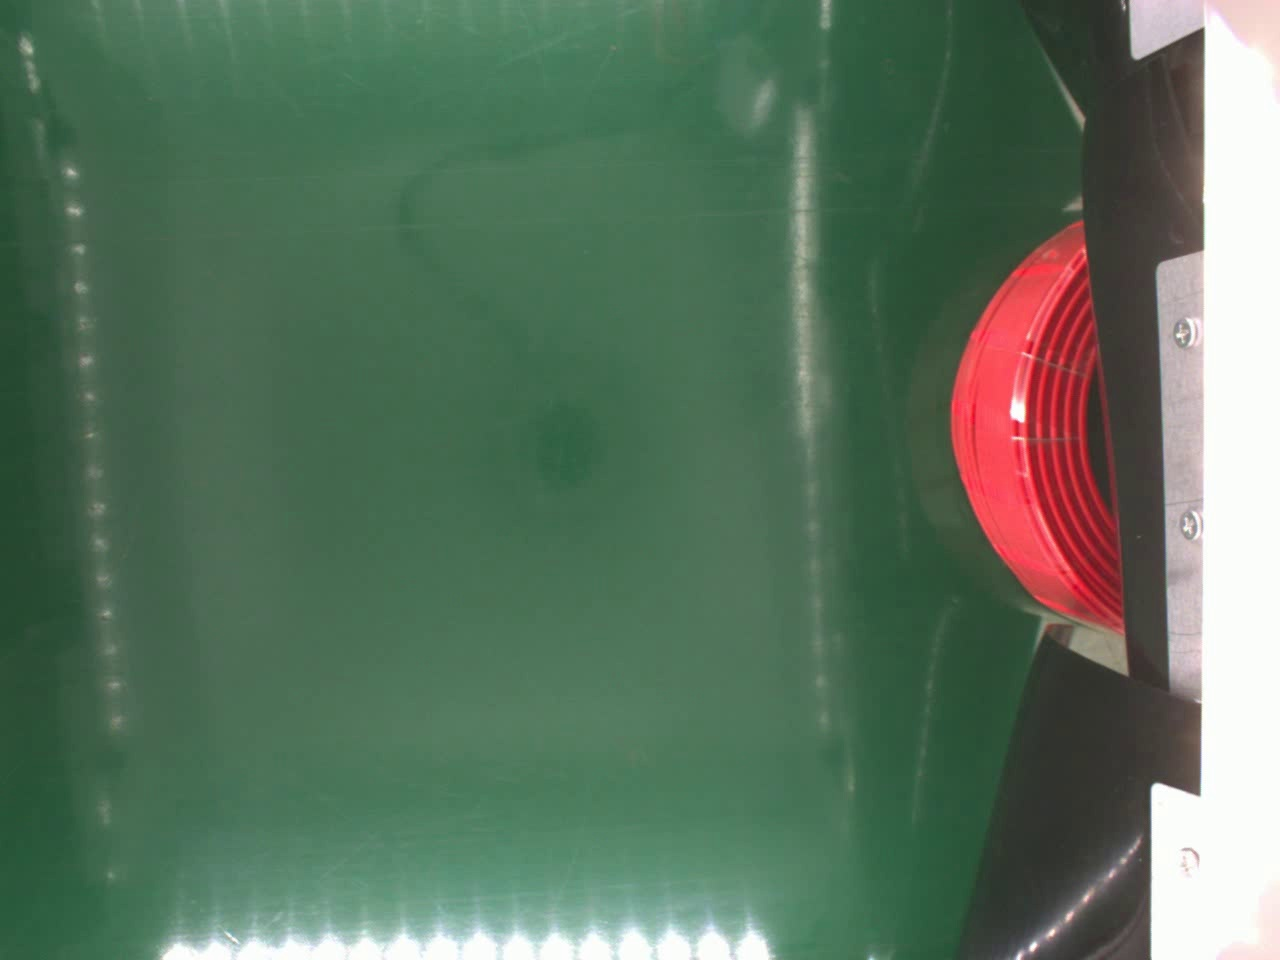red: (948, 218, 1124, 633)
